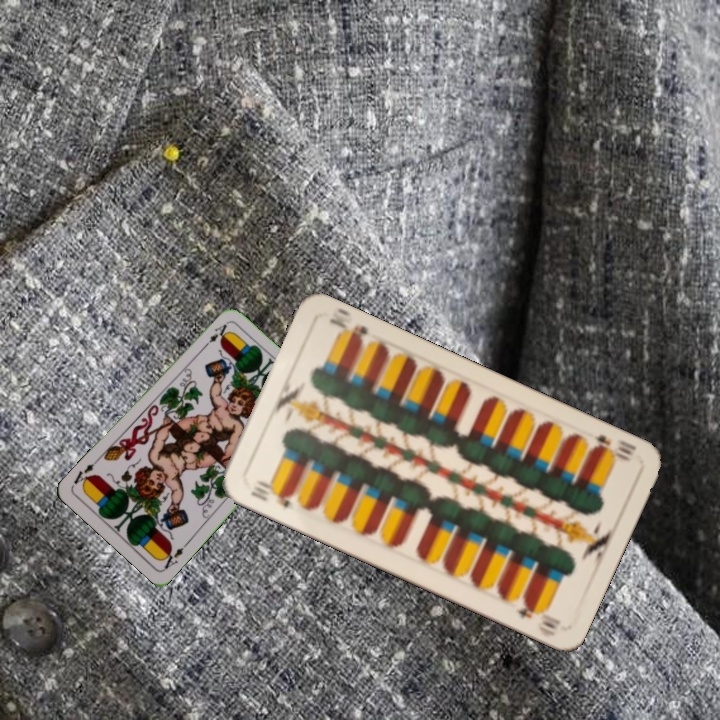E10: (586, 430, 639, 464), (246, 476, 295, 510)
EA: (157, 538, 191, 572), (198, 320, 230, 352)
